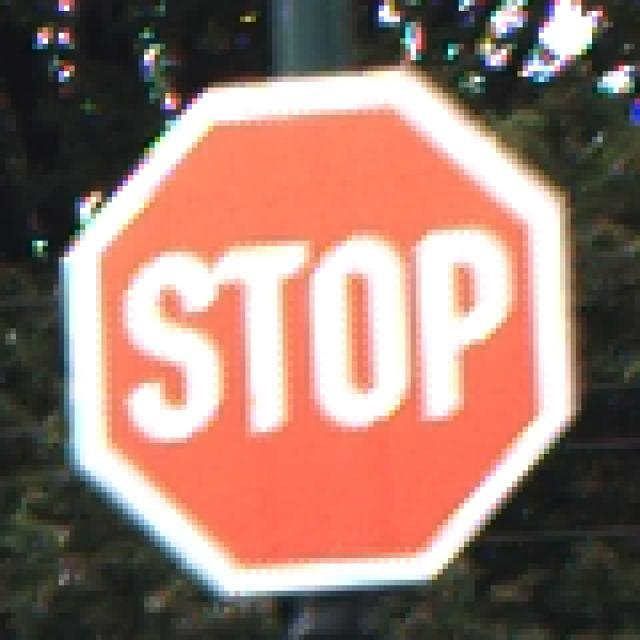stop: (56, 73, 585, 603)
